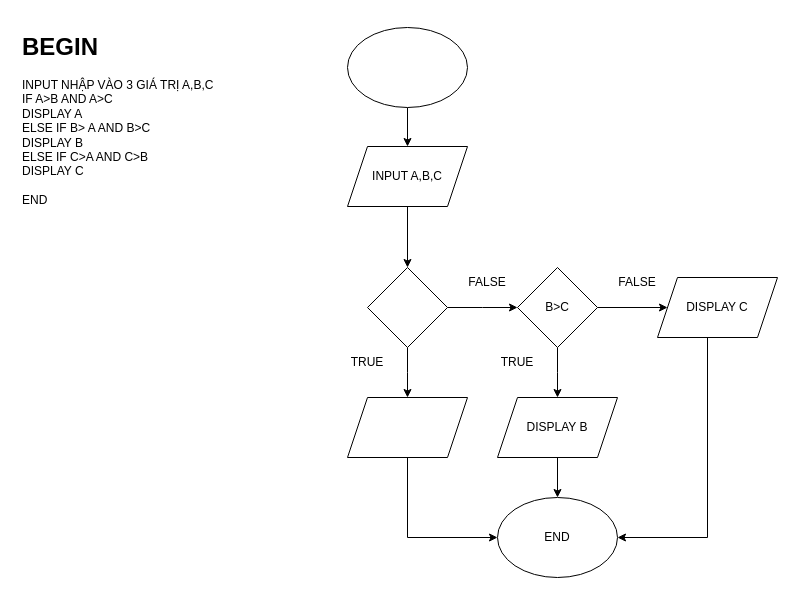
The diagram is 795 pixels wide and 595 high, and some of its shapes have lost their labels. The centre of each missing label's shape, as x and y in pixels:
A>B A>C: the point at 407,307
BEGIN: the point at 407,67
DISPLAY A: the point at 407,427
